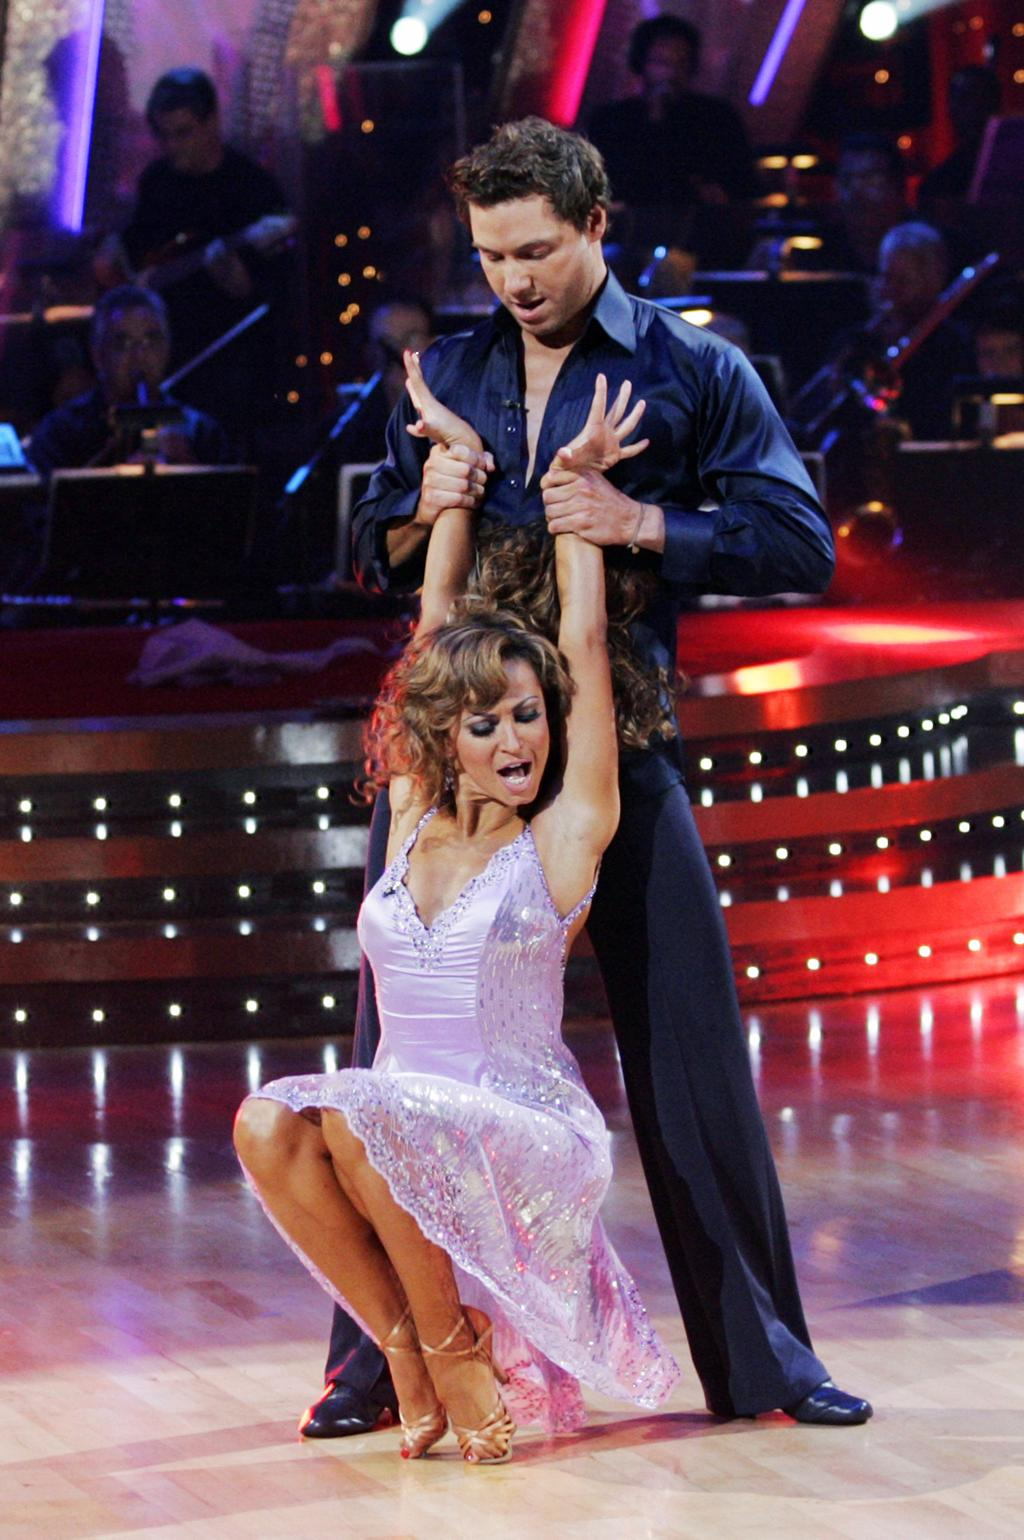face: (471, 205, 593, 332), (443, 656, 547, 805), (150, 104, 204, 175)
